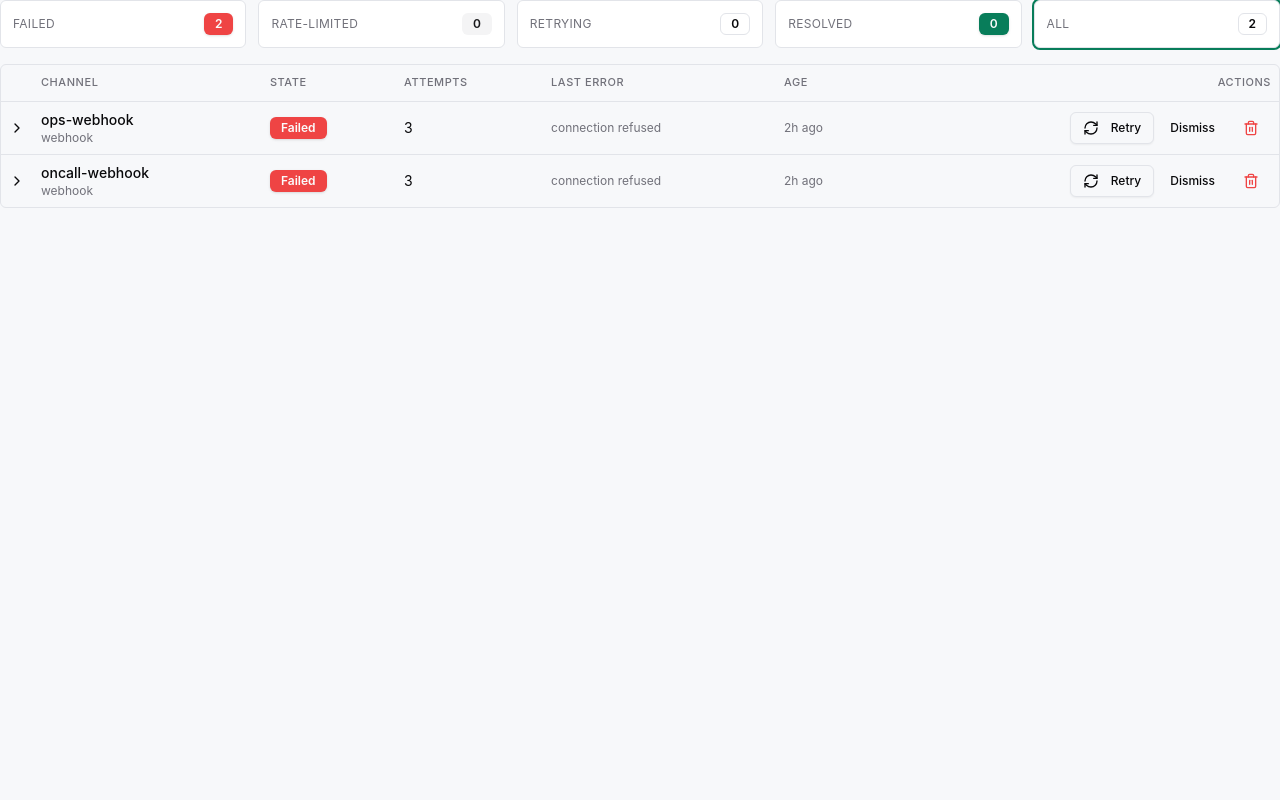
Test: NotificationDLQTable — delete › asks first, naming the entry, and sends nothing yet
Click the button named "Delete failed notification to oncall-webhook from 2h ago" at [1251, 180], box [1231,164,1271,196]
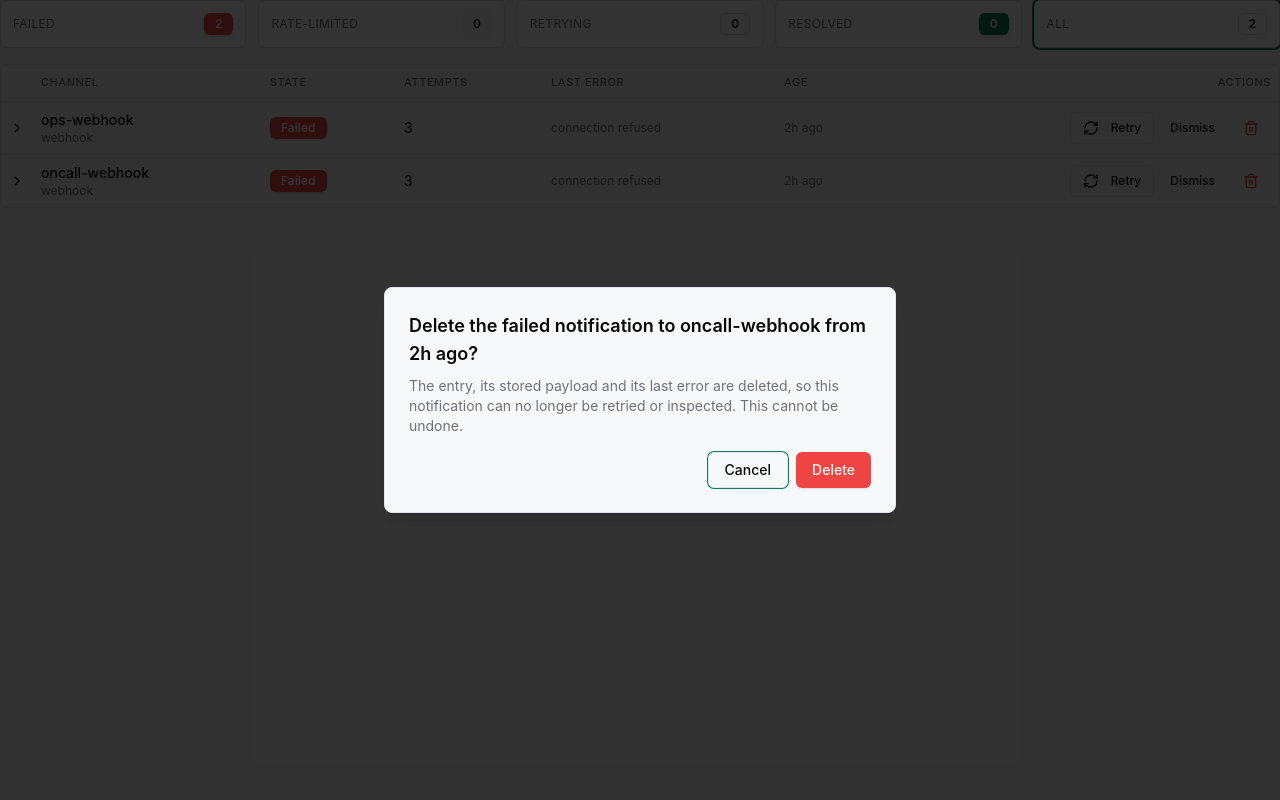
Result: the dialog shows "Delete the failed notification to oncall-webhook from 2h ago?" at [409,315,866,364]
Result: the dialog shows "can no longer be retried" at [409,377,839,434]
